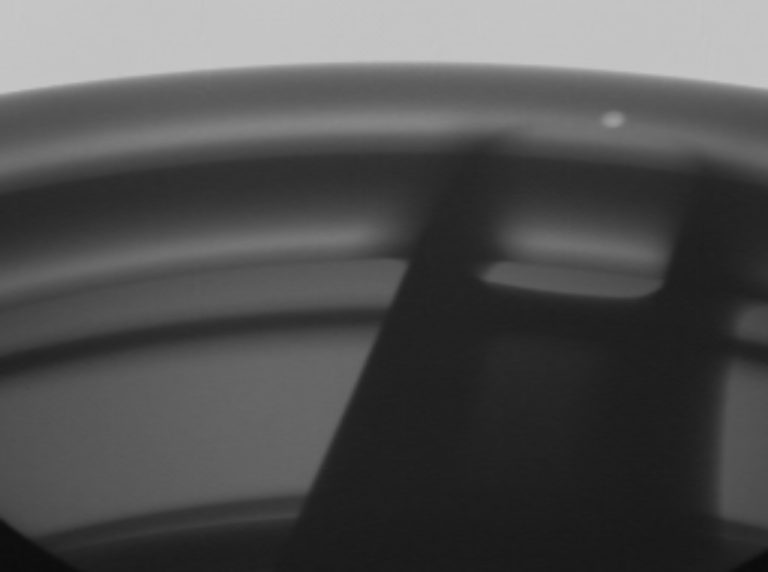defect: (603, 107, 633, 130)
